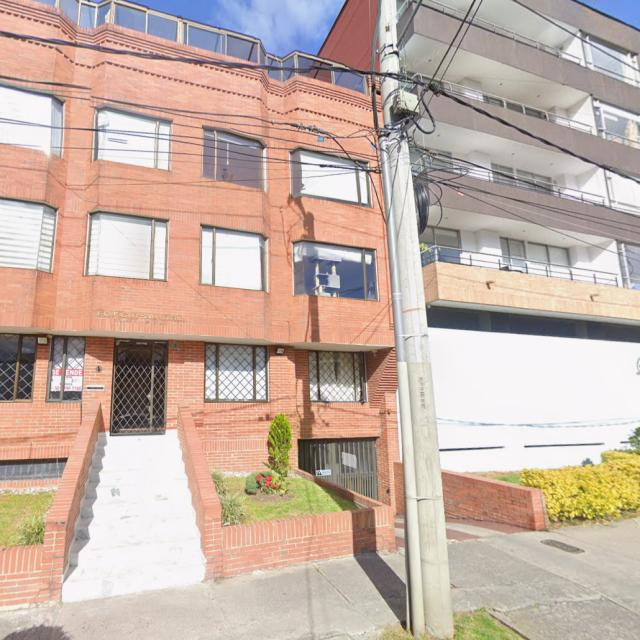fachada: (0, 0, 398, 505), (398, 0, 639, 470)
poste: (381, 76, 453, 638), (380, 137, 425, 636)
